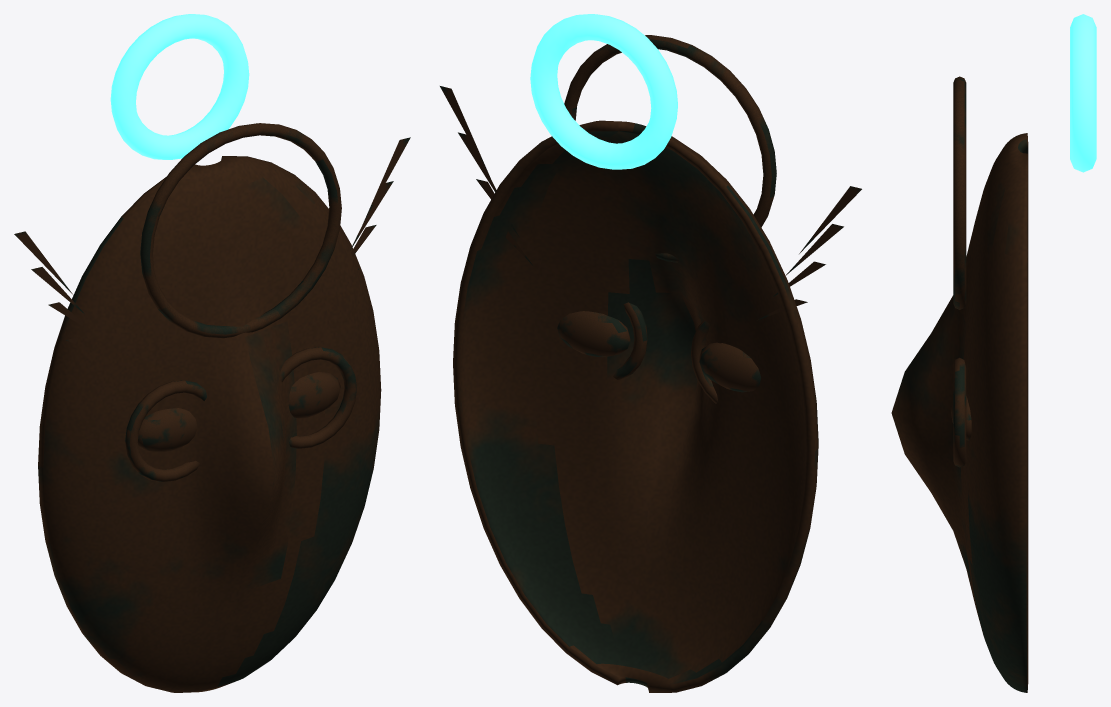
File: sun_mask_secret.fbx
3 views of the same model, side by side, from view 1: azimuth 30°, elevation 25°; view 2: azimuth 150°, elevation 25°; view 3: azimuth 270°, elevation 25° (orthographic). The views are drawn at different scales.
Visible parts, largest first — view 1: TH10_SunMask_Face, TH10_SunMask_Handle, TH10_SunMask_Brow, TH10_SunMask_EyeRim, TH10_SunMask_EyeRim.001, TH10_SunMask_Eye, TH10_SunMask_Eye.001; view 2: TH10_SunMask_Face, TH10_SunMask_Handle, TH10_SunMask_Brow, TH10_SunMask_Eye.001, TH10_SunMask_Eye, TH10_SunMask_EyeRim.001, TH10_SunMask_EyeRim; view 3: TH10_SunMask_Face, TH10_SunMask_Handle, TH10_SunMask_Brow, TH10_SunMask_EyeRim.001.
Part boxes in pixels (x1=…): TH10_SunMask_Face: x1=38, y1=156, x2=381, y2=692; TH10_SunMask_Handle: x1=110, y1=14, x2=249, y2=159; TH10_SunMask_Brow: x1=140, y1=123, x2=341, y2=338; TH10_SunMask_EyeRim: x1=125, y1=380, x2=206, y2=481; TH10_SunMask_EyeRim.001: x1=280, y1=347, x2=356, y2=448; TH10_SunMask_Eye: x1=137, y1=408, x2=197, y2=452; TH10_SunMask_Eye.001: x1=288, y1=372, x2=340, y2=418; TH10_SunMask_Face: x1=453, y1=120, x2=818, y2=692; TH10_SunMask_Handle: x1=530, y1=14, x2=677, y2=169; TH10_SunMask_Brow: x1=564, y1=35, x2=776, y2=262; TH10_SunMask_Eye.001: x1=557, y1=311, x2=630, y2=357; TH10_SunMask_Eye: x1=699, y1=342, x2=760, y2=392; TH10_SunMask_EyeRim.001: x1=613, y1=302, x2=647, y2=379; TH10_SunMask_EyeRim: x1=691, y1=320, x2=718, y2=403; TH10_SunMask_Face: x1=891, y1=133, x2=1028, y2=692; TH10_SunMask_Handle: x1=1070, y1=14, x2=1096, y2=172; TH10_SunMask_Brow: x1=953, y1=76, x2=966, y2=309; TH10_SunMask_EyeRim.001: x1=953, y1=357, x2=966, y2=467.
Size of the model in its own units: 0.21 by 0.3295 by 0.093.
Materials: 2 (1 with a texture image).
